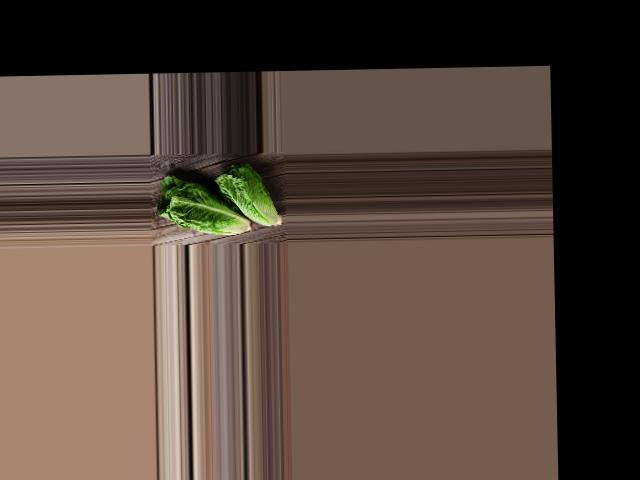lettuce: (213, 156, 286, 230)
